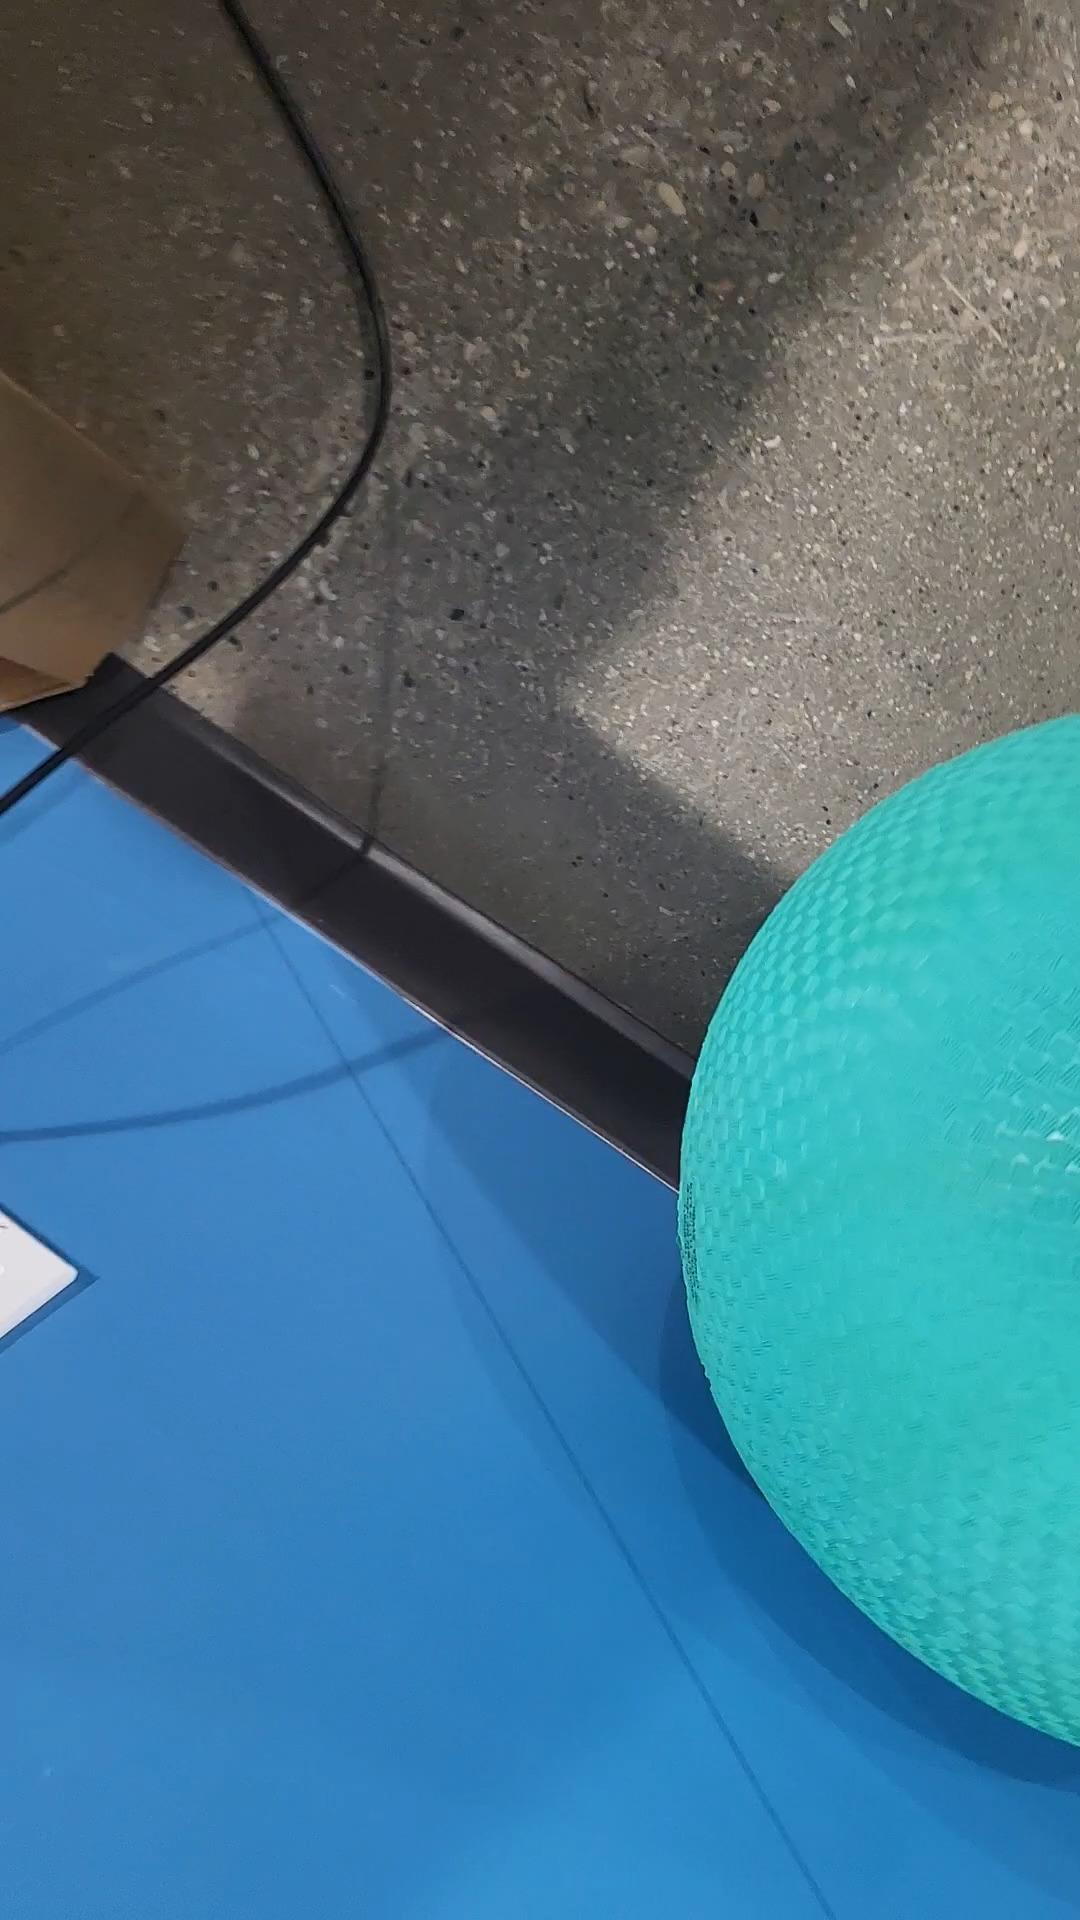algae: (678, 712, 1080, 1745)
